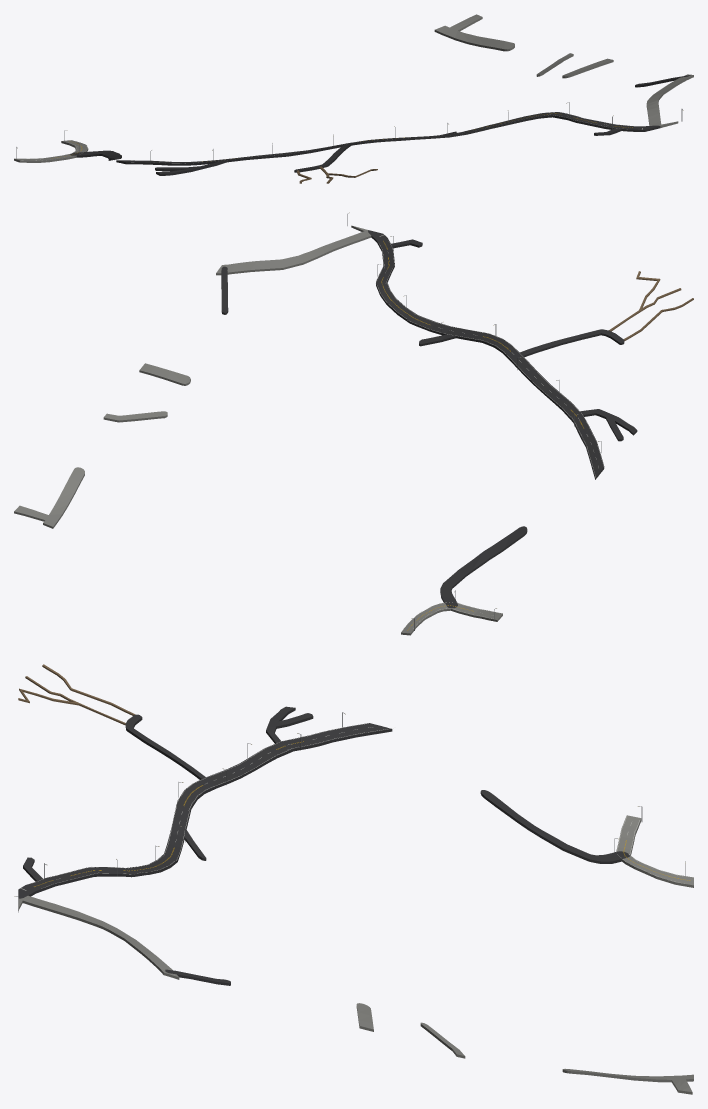
3 renders of one model, top to bottom at view 1: azimuth 30°, elevation 25°; view 2: azimuth 150°, elevation 25°; view 3: azimuth 270°, elevation 25°, orthographic. The views are drawn at different scales.
Bounding box in the file's own units: 295 × 98.22 × 293.
